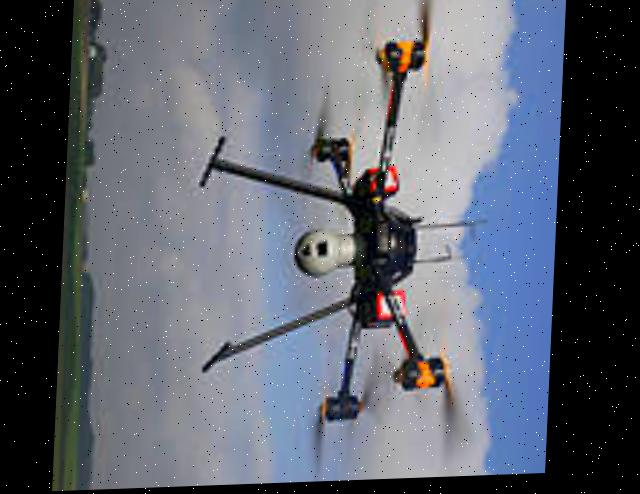drone: (181, 0, 490, 488)
